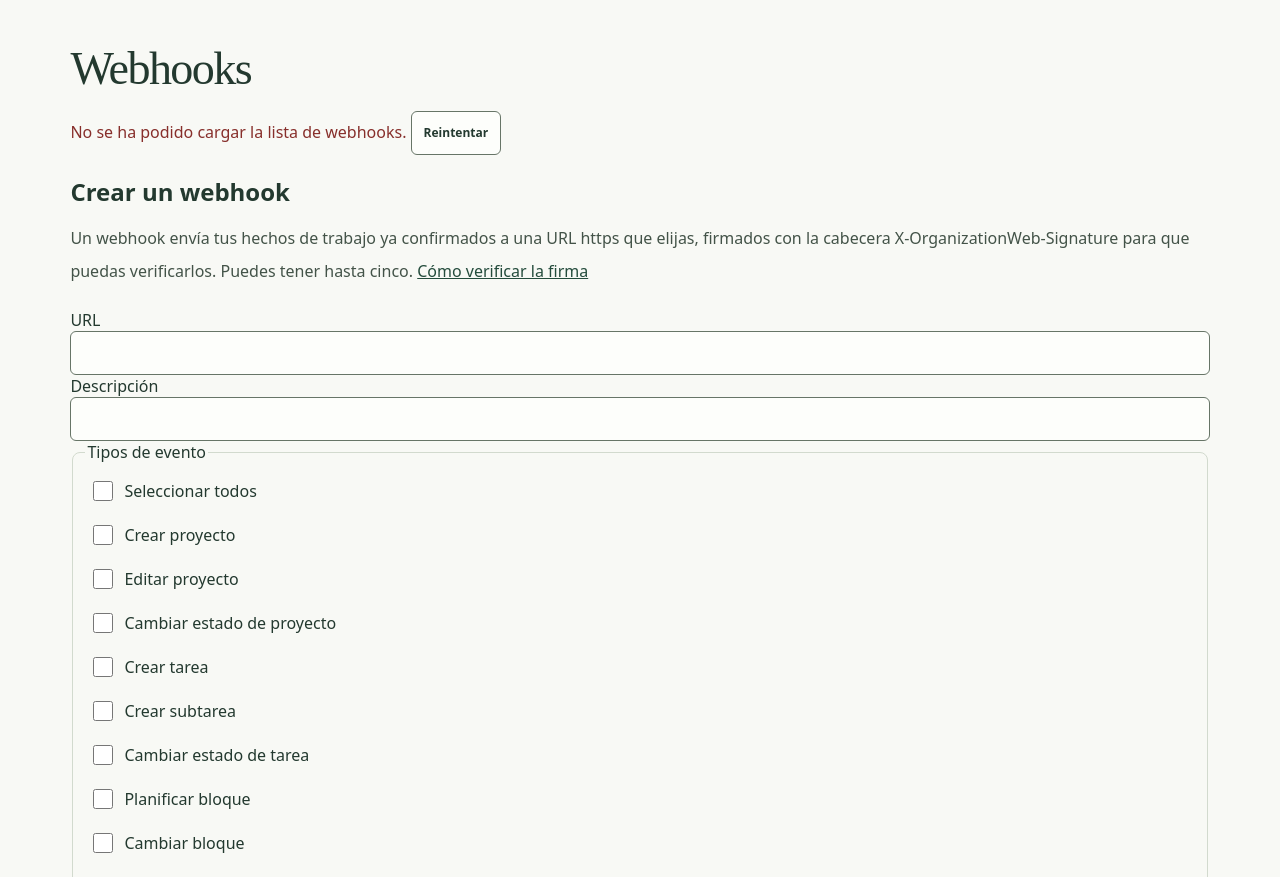
Test: @s36 reports a failed load with an alert and retries only the GET
This screenshot has width=1280, height=877.
expect the message "No se ha podido cargar la lista de webhooks. Reintentar" is shown: met, box [70,111,501,155]
Click the button "Reintentar": coordinates (456, 133) [411,111,501,155]
(page scrolled)
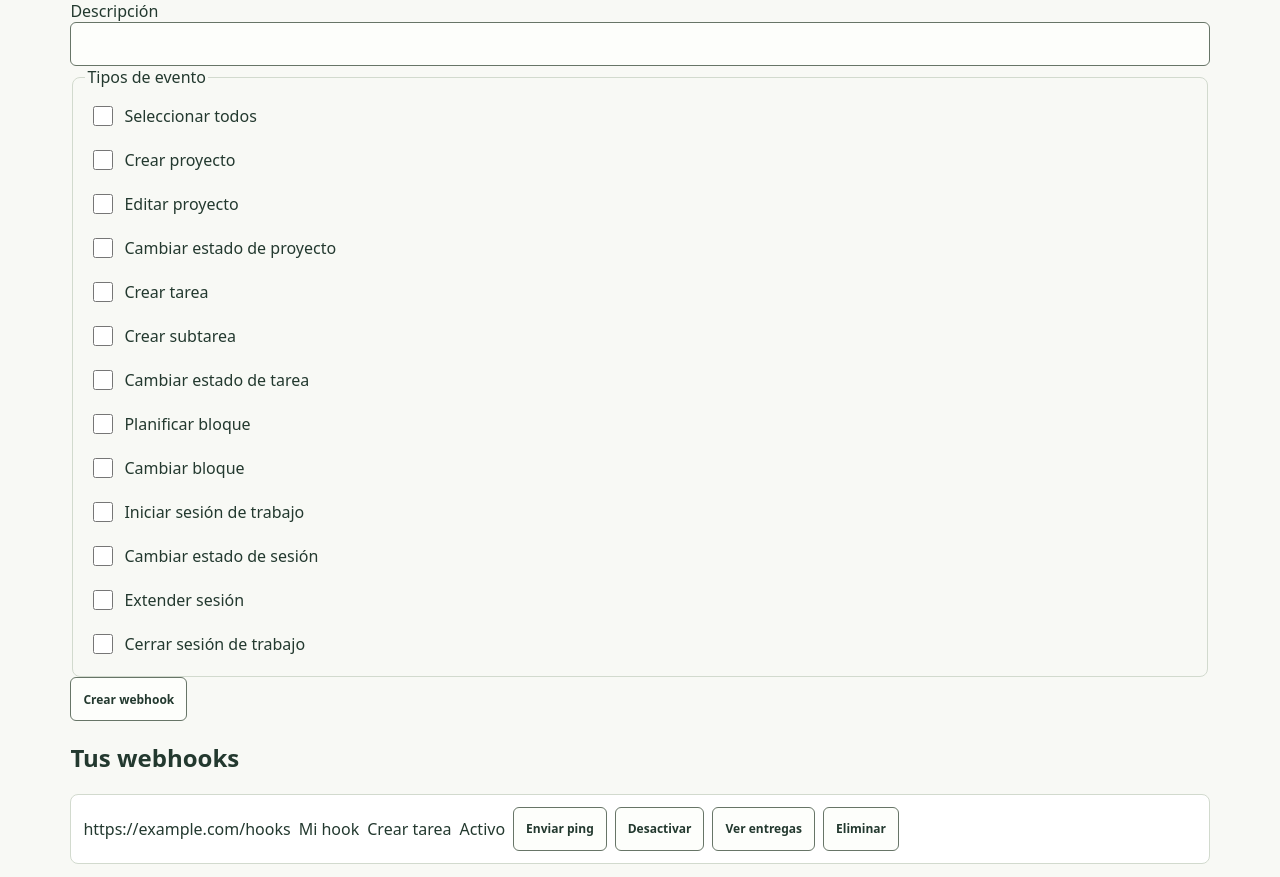
expect the text "https://example.com/hooks" is shown: met, box [83,818,291,840]
